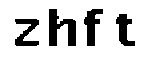f: (84, 7, 106, 49)
h: (45, 2, 79, 50)
t: (116, 11, 140, 52)
z: (13, 17, 43, 49)
